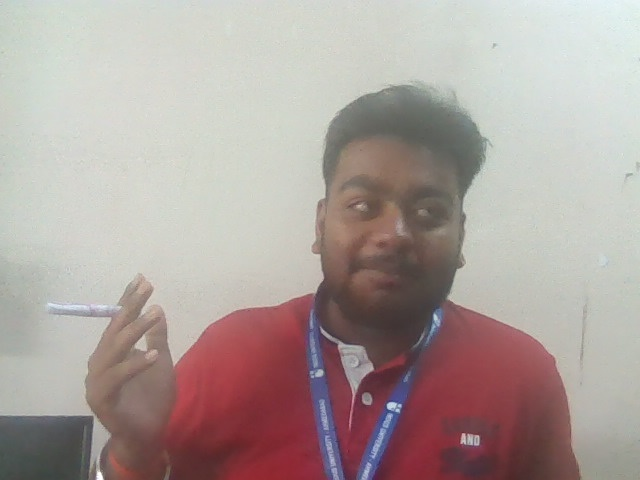smoking: (45, 270, 175, 434)
